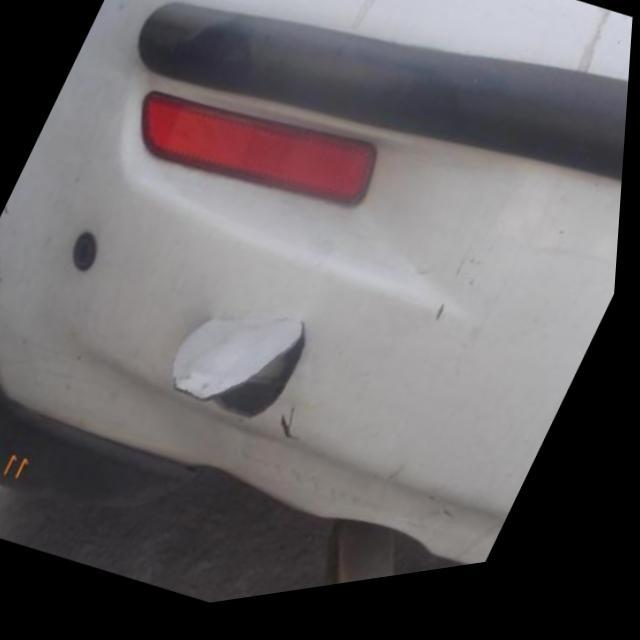crack: (159, 319, 321, 432), (280, 410, 311, 458)
